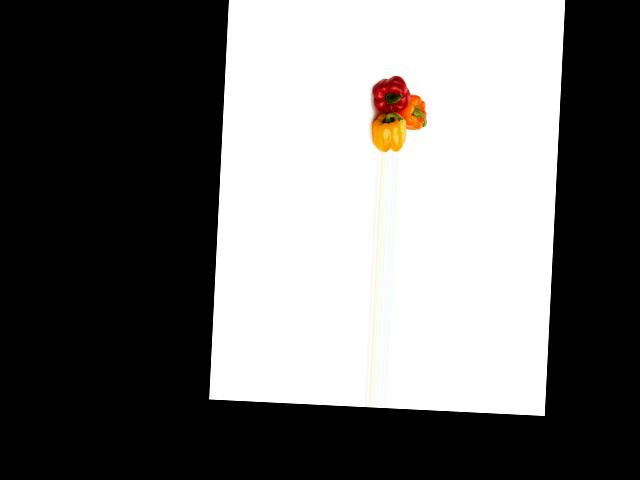bell_pepper: (367, 113, 408, 153)
